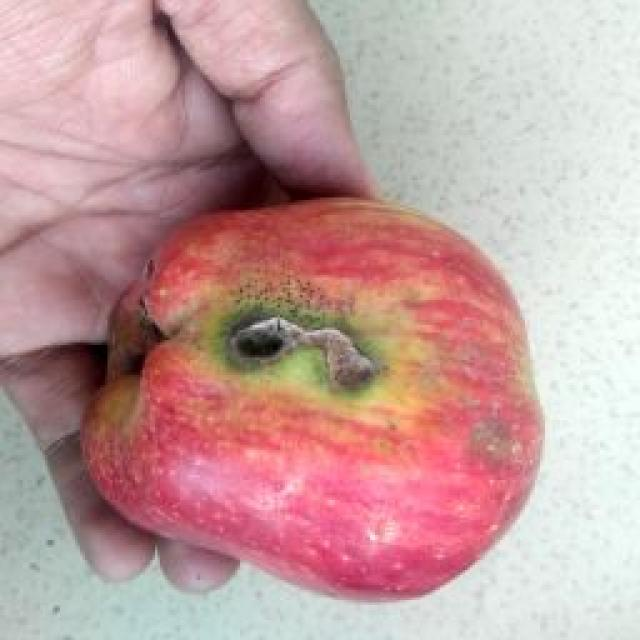Bad_Apple: (81, 199, 542, 597)
